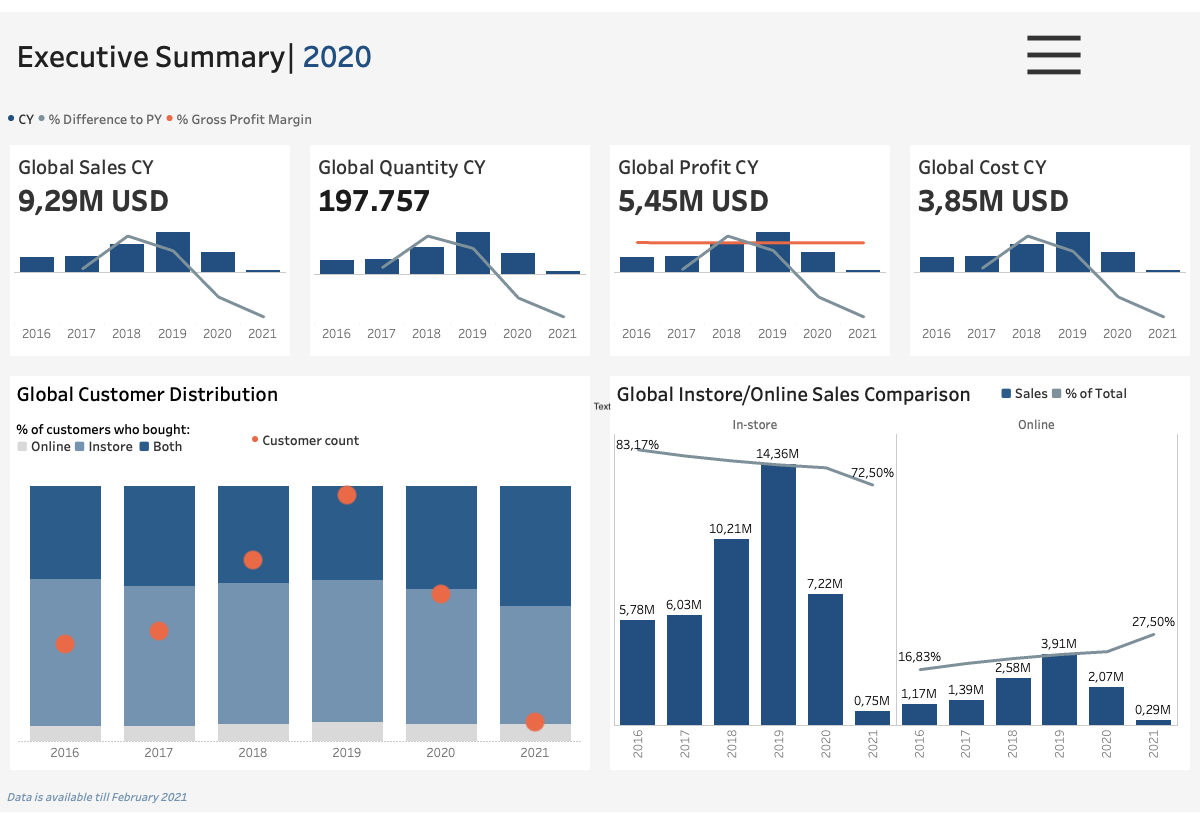

The dashboard page shown, as its layout file describes it:
{"tool":"tableau","page":{"name":"Executive Summary","canvas":[1500,800],"ordinal":1},"visuals":[{"type":"text","box":[1247,8,245,90]},{"type":"text","box":[10,10,460,66]},{"type":"blank","box":[470,10,656,66]},{"type":"blank","box":[1126,10,103,66]},{"type":"text","box":[0,86,1239,37]},{"type":"dashboard-object","box":[1247,98,245,52]},{"type":"worksheet","title":"Global Sales","mark":"Bar","rows":["Calculation_152911346216800256","Calculation_152911346216800256"],"cols":["Order Date"],"box":[0,123,310,231]},{"type":"worksheet","title":"Global Quantity","mark":"Bar","rows":["Quantity","Quantity"],"cols":["Order Date"],"box":[310,123,310,231]},{"type":"worksheet","title":"Global Profit","mark":"Bar","rows":["Calculation_152911346219216897"],"cols":["Order Date"],"box":[620,123,310,231]},{"type":"worksheet","title":"Global Cost","mark":"Bar","rows":["Sales Amount LOC/USD (copy)_107945719115010053","Sales Amount LOC/USD (copy)_107945719115010053"],"cols":["Order Date"],"box":[930,123,309,231]},{"type":"dashboard-object","box":[1247,150,245,52]},{"type":"dashboard-object","box":[1247,202,245,52]},{"type":"text","box":[10,364,600,34]},{"type":"text","box":[630,364,403,34]},{"type":"text","box":[1033,364,196,34]},{"type":"text","box":[1243,365,253,150]},{"type":"text","box":[10,398,234,55]},{"type":"text","box":[244,398,196,55]},{"type":"blank","box":[440,398,170,55]},{"type":"worksheet","title":"Global Instore/Online Sales Comparison","mark":"Bar","rows":["Calculation_152911346216800256"],"cols":["Calculation_1214001626600972288","Order Date"],"box":[630,398,599,360]},{"type":"worksheet","title":"Global Customer Distribution","mark":"Bar","rows":["Calculation2","Calculation_152911346245443588"],"cols":["Order Date"],"box":[10,453,600,305]},{"type":"blank","box":[1243,515,253,32]},{"type":"parameter","param":"[Parameters].[Parameter 2]","box":[1243,547,253,36]},{"type":"parameter","param":"[Parameters].[Parameter 3]","box":[1243,583,253,32]},{"type":"blank","box":[1243,615,253,181]},{"type":"text","box":[0,768,1239,32]}]}

Visuals, with their boxes on the page's 1500x800 design canvas (x1, y1, x2, y2). These are canvas units, not pixel positions in the 1203x814 screenshot, which may show the page scaled, cropped or inside an application window:
text: box=[1247, 8, 1492, 98]
text: box=[10, 10, 470, 76]
blank: box=[470, 10, 1126, 76]
blank: box=[1126, 10, 1229, 76]
text: box=[0, 86, 1239, 123]
dashboard-object: box=[1247, 98, 1492, 150]
"Global Sales" worksheet (Bar marks): box=[0, 123, 310, 354]
"Global Quantity" worksheet (Bar marks): box=[310, 123, 620, 354]
"Global Profit" worksheet (Bar marks): box=[620, 123, 930, 354]
"Global Cost" worksheet (Bar marks): box=[930, 123, 1239, 354]
dashboard-object: box=[1247, 150, 1492, 202]
dashboard-object: box=[1247, 202, 1492, 254]
text: box=[10, 364, 610, 398]
text: box=[630, 364, 1033, 398]
text: box=[1033, 364, 1229, 398]
text: box=[1243, 365, 1496, 515]
text: box=[10, 398, 244, 453]
text: box=[244, 398, 440, 453]
blank: box=[440, 398, 610, 453]
"Global Instore/Online Sales Comparison" worksheet (Bar marks): box=[630, 398, 1229, 758]
"Global Customer Distribution" worksheet (Bar marks): box=[10, 453, 610, 758]
blank: box=[1243, 515, 1496, 547]
parameter: box=[1243, 547, 1496, 583]
parameter: box=[1243, 583, 1496, 615]
blank: box=[1243, 615, 1496, 796]
text: box=[0, 768, 1239, 800]
